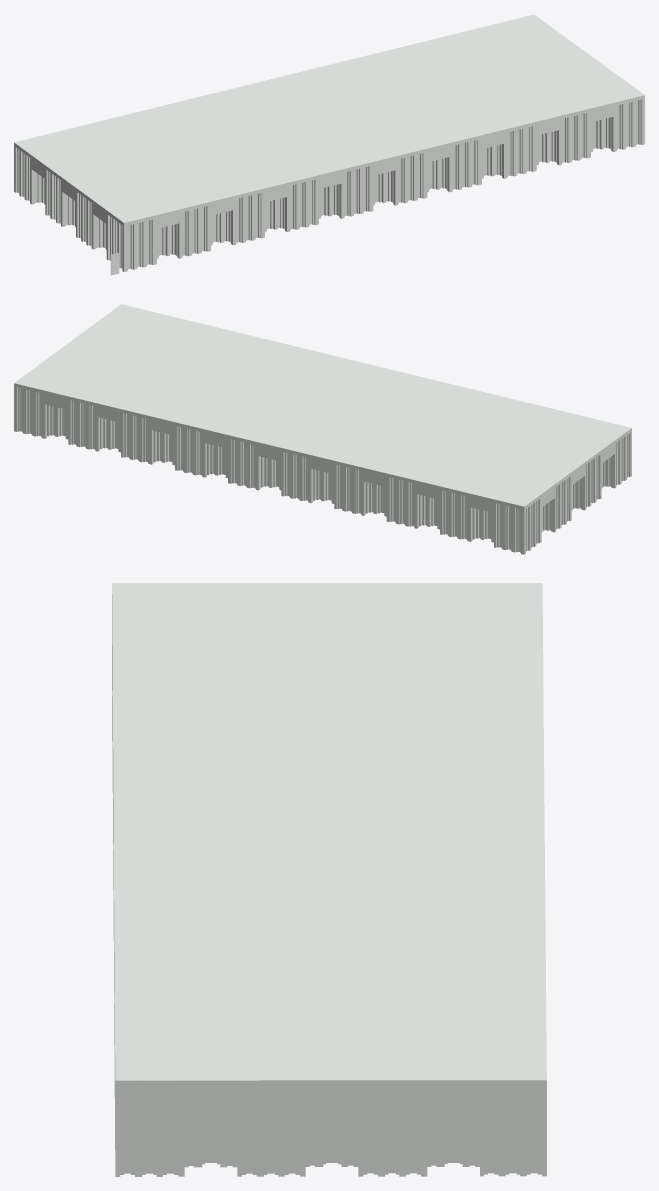
3 views of the same model, one above another, from view 1: azimuth 30°, elevation 25°; view 2: azimuth 150°, elevation 25°; view 3: azimuth 270°, elevation 25° (orthographic). The views are drawn at different scales.
Parts seen in each view (by area): view 1: Mesh1 Model; view 2: Mesh1 Model; view 3: Mesh1 Model.
Boxes of the visible parts, x1,y1,x2,y2 form: Mesh1 Model: (14,14,644,272); Mesh1 Model: (14,304,631,554); Mesh1 Model: (112,583,546,1176).
Size of the model in its own units: 42.89 by 3.77 by 15.44.
Materials: 2 (2 with a texture image).
